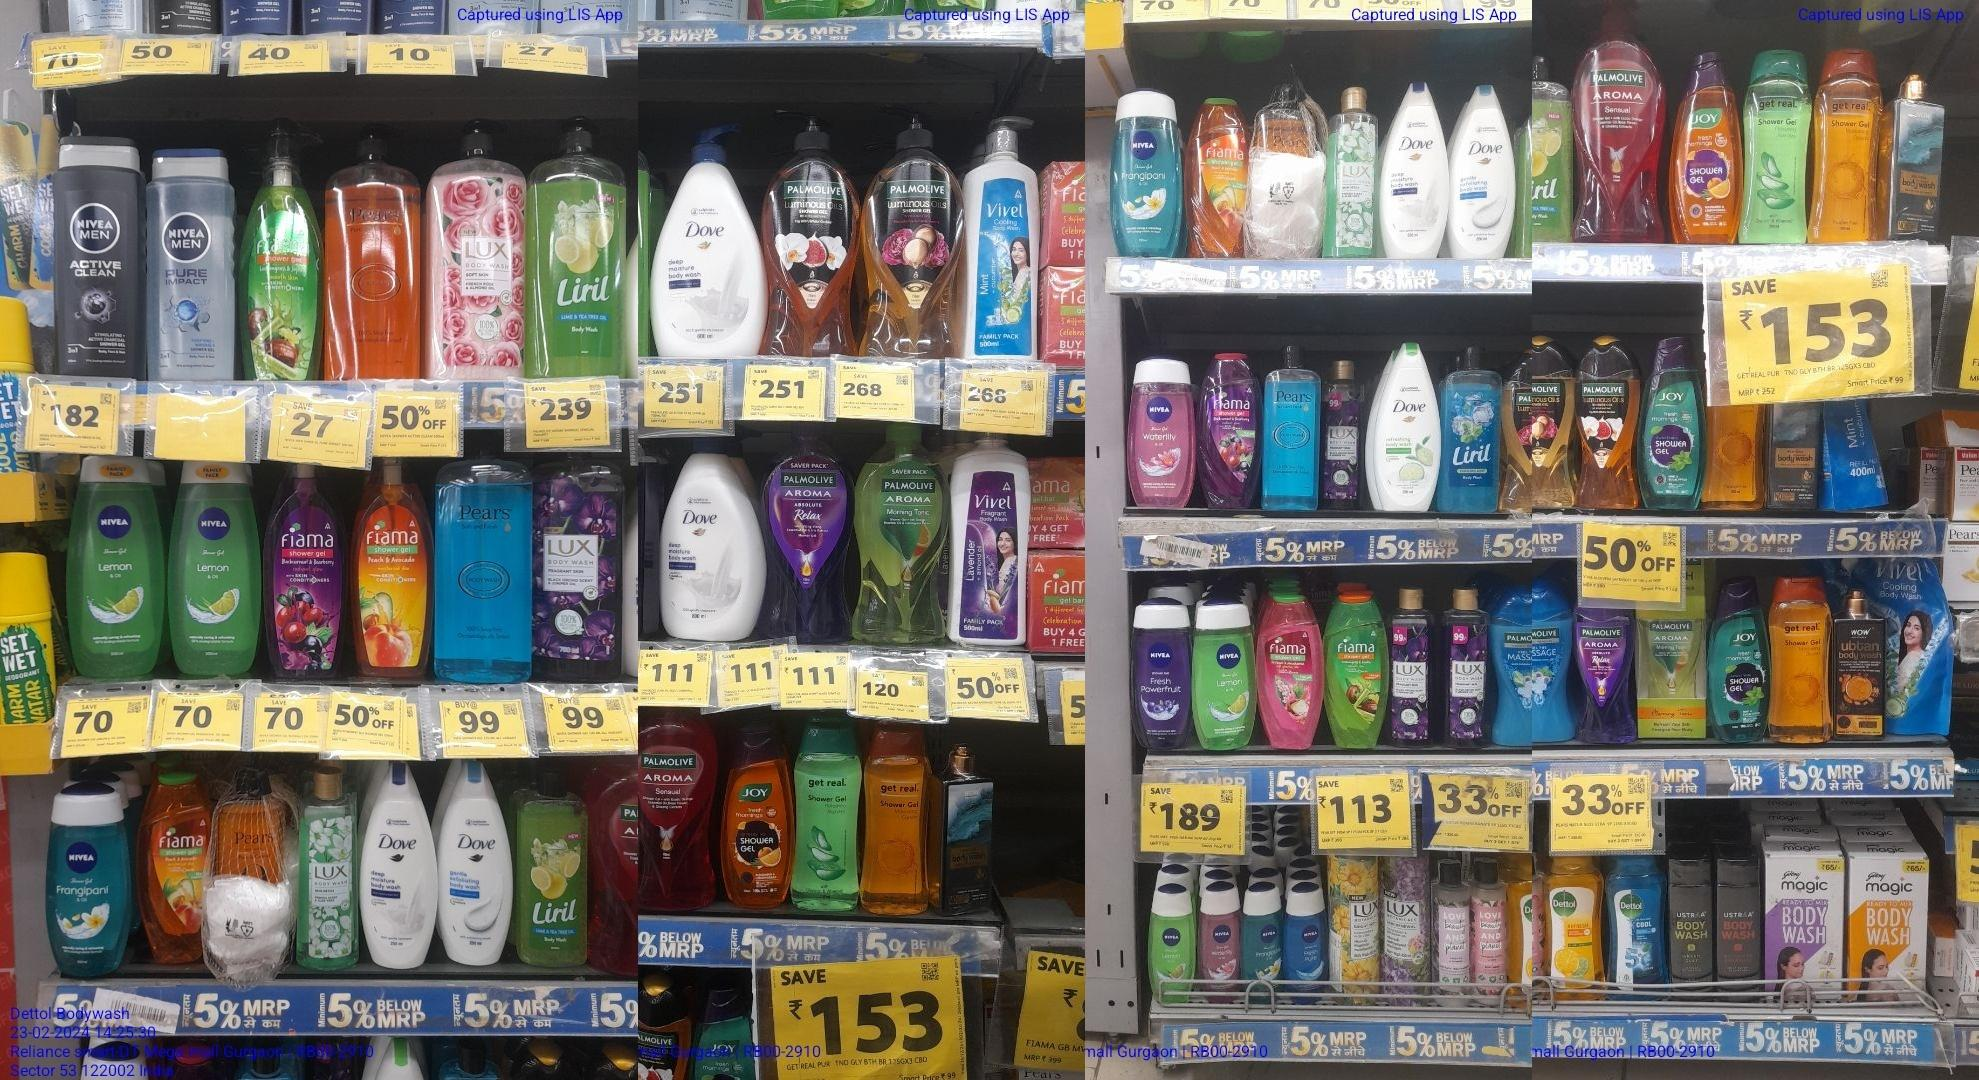Dettol_Bodywash_Cool: (1608, 857, 1670, 1004)
Dettol_Bodywash_Refresh: (1547, 849, 1605, 1000)
Dove_Deep_Moisture_Body_Wash_250ML: (363, 765, 430, 968), (1383, 73, 1447, 263)
Dove_Gentle_Exfoliating_Body_Wash_250ML: (436, 759, 513, 970), (1448, 74, 1512, 258)
Dove_Refreshing_Body_Wash_250ML: (1378, 338, 1436, 515)
Fiama_Shower_Gel_Lemongrass_and_Jojoba_250ML: (1327, 588, 1382, 755)
Fiama_Shower_Gel_Patchouli_and_Macadamia_250ML: (1261, 595, 1321, 750)
Fiama_Shower_Gel_Peach_and_Avocado_250ML: (142, 770, 209, 970)
Get_Real_Shower_Gel_Moisturising_Glycerin_300ML: (862, 714, 928, 922), (1817, 40, 1879, 246), (1770, 573, 1833, 745)
Joy_Shower_Gel_Mandarin_and_Lemongrass_250ML: (722, 718, 793, 907), (1673, 44, 1736, 242)
Joy_Shower_Gel_Mint_and_Eucalyptus_250ML: (1709, 579, 1768, 742), (1644, 329, 1696, 509)
Liril_Cooling_Mint_Body_Wash_250ML: (1439, 340, 1500, 515)
Liril_Lime_and_Tea_Tree_Oil_Body_Wash_250ML: (517, 759, 591, 963), (1529, 52, 1573, 242)
Lux_Black_Orchid_Scent_and_Juniper_Oil_Body_Wash_245ML: (1318, 351, 1363, 504), (1444, 584, 1487, 746), (1390, 584, 1431, 747)
Lux_Body_Wash_Skin_Detox_Freesia_Scent_and_Alove_Vera_245ML: (294, 757, 358, 974), (1329, 80, 1377, 261)
Nivea_Shower_Gel_Frangipani_and_Oil_250ML: (47, 789, 126, 975), (1113, 84, 1186, 255), (1245, 883, 1285, 1004)
Nivea_Shower_Gel_Fresh_Powerfruit_250ML: (1132, 603, 1189, 750)
Nivea_Shower_Gel_Lemon_and_Oil_250ML: (73, 446, 170, 681), (173, 450, 261, 674), (1194, 596, 1254, 749), (1146, 877, 1194, 1004)
Nivea_Shower_Gel_Waterlily_and_Oil_250ML: (1129, 354, 1190, 515), (1198, 882, 1240, 1008)
Palmolive_Aroma_Moments_Feel_The_Massage_Shower_Gel_250ML: (1532, 580, 1576, 745)
Palmolive_Aroma_Relax_250ML: (1577, 600, 1631, 743)
Palmolive_Luminous_Oils_Invigorating_Macadamia_Oil_With_Peony_250ML: (1532, 334, 1573, 511)
Palmolive_Luminous_Oils_With_White_Orchid_Shower_Gel_250ML: (1577, 327, 1635, 512)
Pears_Pure_Glycerin_and_Mint_Extracts_Body_Wash_250ML: (1262, 342, 1322, 516)
